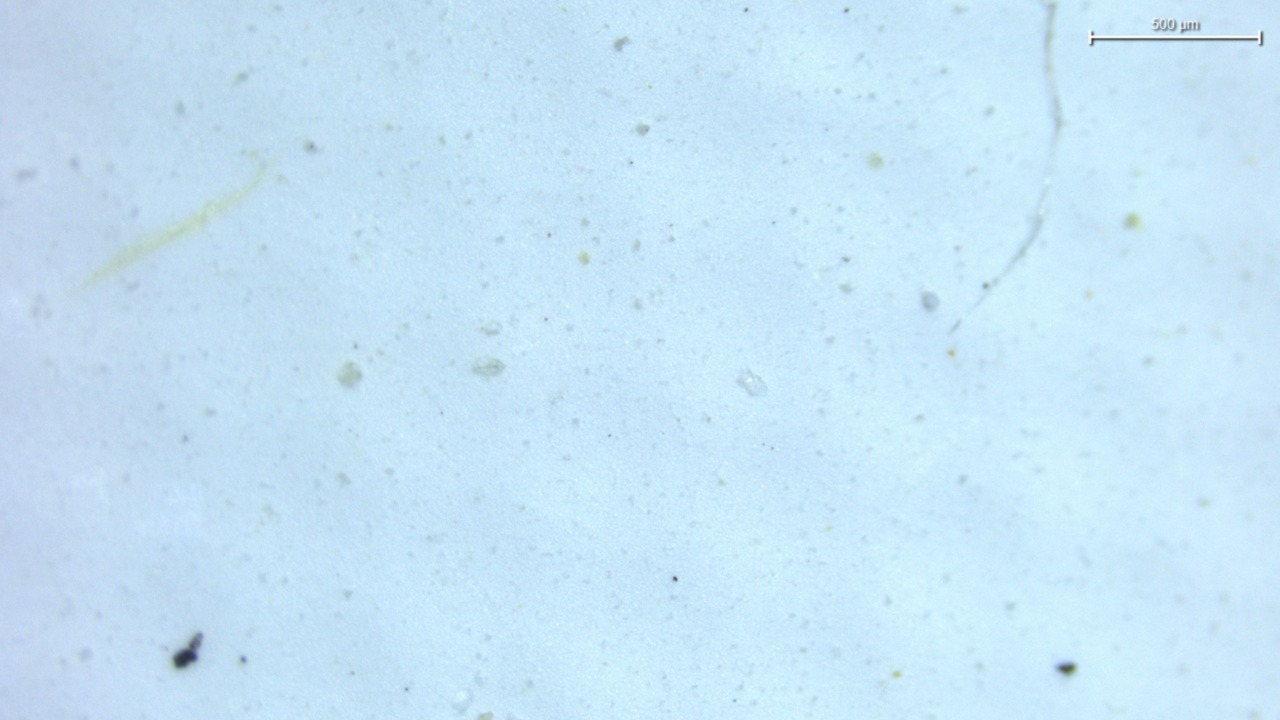microplastic_fragment: (736, 368, 767, 396), (921, 291, 939, 311)
